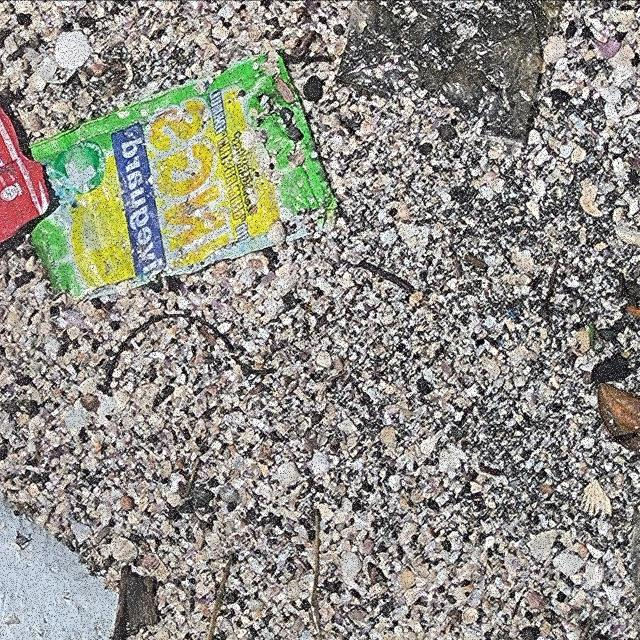plastic_waste: (32, 50, 342, 313)
